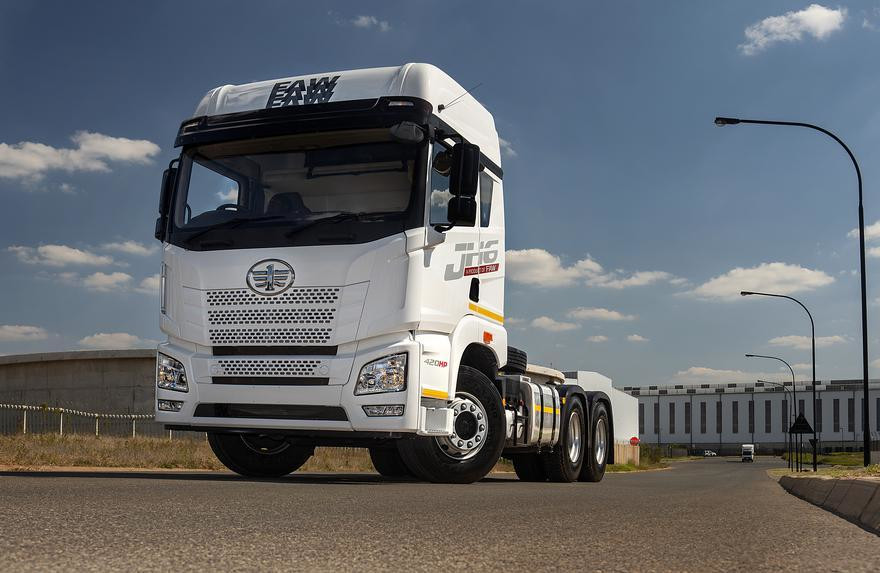truck: (152, 61, 642, 482)
